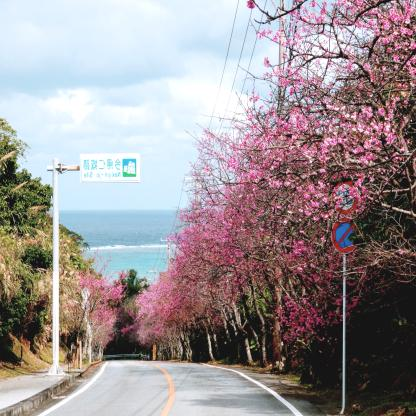KanhiSakura: (238, 0, 416, 228), (238, 67, 310, 317), (184, 123, 252, 315), (176, 206, 214, 322), (100, 268, 128, 354), (70, 247, 90, 362), (160, 264, 190, 333), (129, 289, 166, 344), (85, 247, 98, 360), (95, 252, 105, 357)
